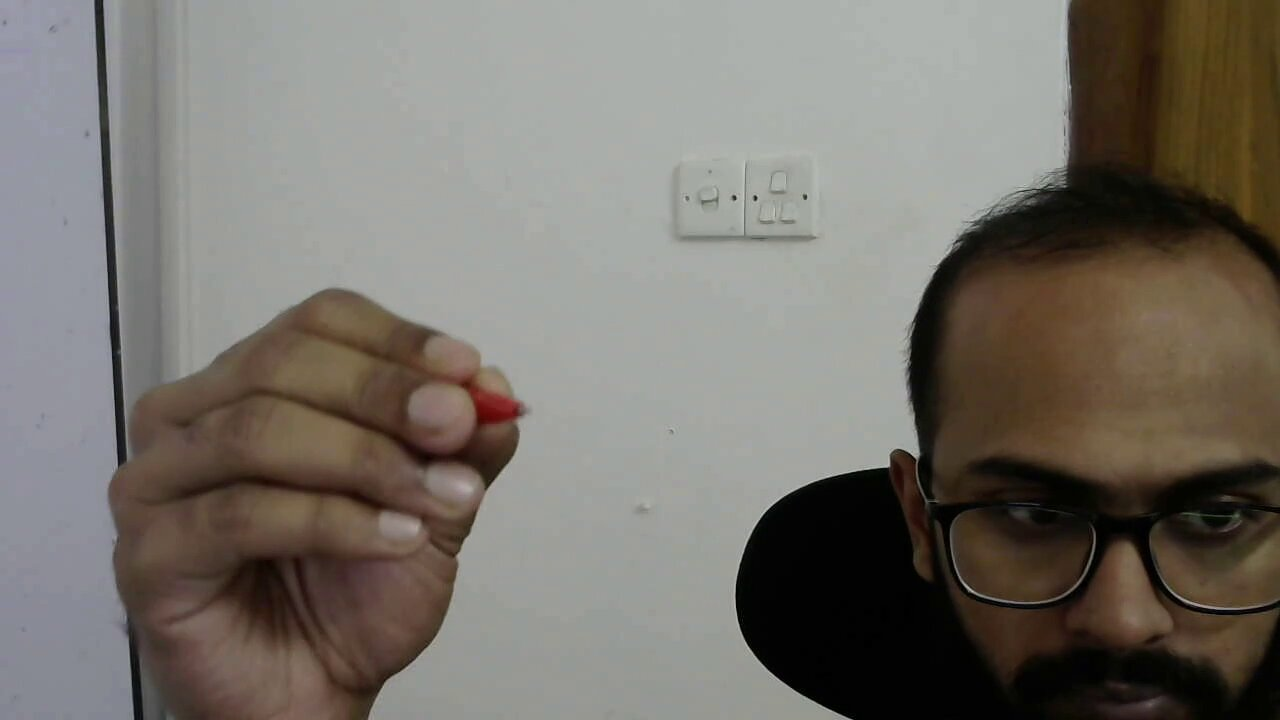pointer: (107, 287, 525, 666)
